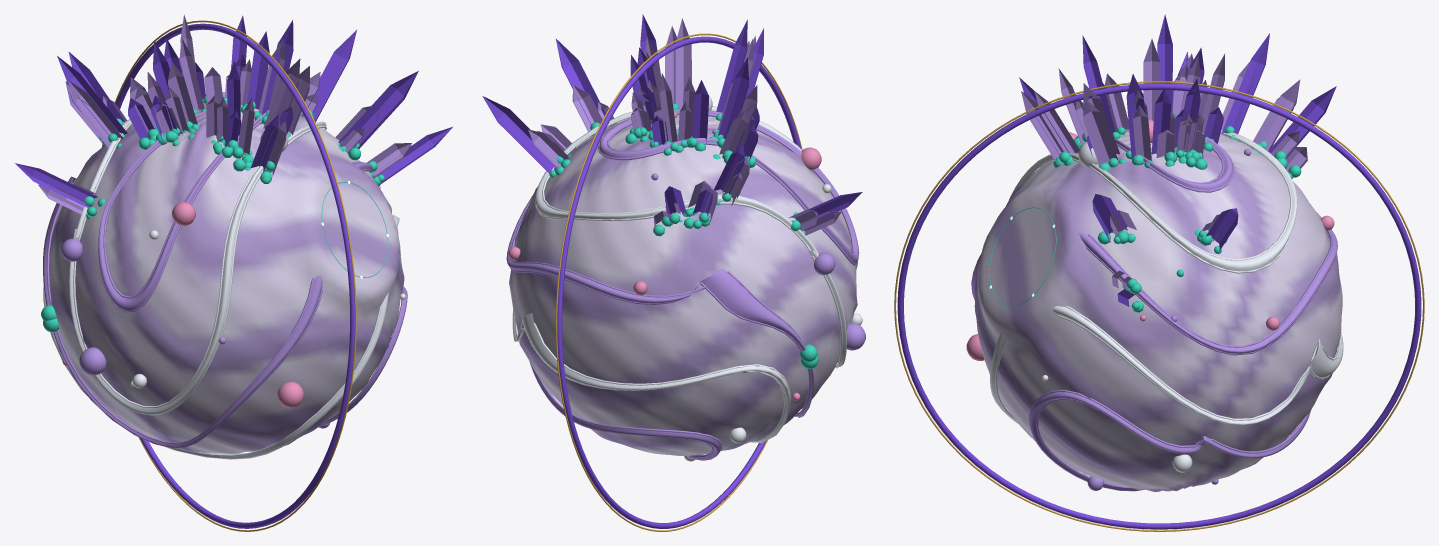
File: planet-posture.glb
3 views of the same model, side by side, from view 1: azimuth 30°, elevation 25°; view 2: azimuth 150°, elevation 25°; view 3: azimuth 270°, elevation 25° (orthographic). The views are drawn at different scales.
Visible parts, largest first — view 1: MyoSkills posture / Sculpted pearl · vertex colour, MyoSkills posture / Lavender pearl, MyoSkills posture / Violet satin resin, MyoSkills posture / Ivory ceramic, MyoSkills posture / Mint opaline resin, MyoSkills posture / Champagne metal, MyoSkills posture / Blush ceramic; view 2: MyoSkills posture / Sculpted pearl · vertex colour, MyoSkills posture / Lavender pearl, MyoSkills posture / Violet satin resin, MyoSkills posture / Ivory ceramic, MyoSkills posture / Mint opaline resin, MyoSkills posture / Champagne metal, MyoSkills posture / Blush ceramic; view 3: MyoSkills posture / Sculpted pearl · vertex colour, MyoSkills posture / Lavender pearl, MyoSkills posture / Violet satin resin, MyoSkills posture / Ivory ceramic, MyoSkills posture / Champagne metal, MyoSkills posture / Mint opaline resin, MyoSkills posture / Blush ceramic.
Part boxes in pixels (bbox=[...]): MyoSkills posture / Sculpted pearl · vertex colour: bbox=[49, 102, 404, 453]; MyoSkills posture / Lavender pearl: bbox=[38, 14, 411, 448]; MyoSkills posture / Violet satin resin: bbox=[15, 15, 452, 528]; MyoSkills posture / Ivory ceramic: bbox=[43, 119, 405, 459]; MyoSkills posture / Mint opaline resin: bbox=[41, 96, 388, 332]; MyoSkills posture / Champagne metal: bbox=[101, 20, 356, 531]; MyoSkills posture / Blush ceramic: bbox=[62, 102, 380, 408]; MyoSkills posture / Sculpted pearl · vertex colour: bbox=[509, 114, 857, 455]; MyoSkills posture / Lavender pearl: bbox=[506, 18, 865, 460]; MyoSkills posture / Violet satin resin: bbox=[482, 14, 862, 528]; MyoSkills posture / Ivory ceramic: bbox=[512, 91, 862, 461]; MyoSkills posture / Mint opaline resin: bbox=[549, 103, 818, 368]; MyoSkills posture / Champagne metal: bbox=[555, 33, 802, 531]; MyoSkills posture / Blush ceramic: bbox=[508, 112, 821, 400]; MyoSkills posture / Sculpted pearl · vertex colour: bbox=[974, 129, 1342, 491]; MyoSkills posture / Lavender pearl: bbox=[971, 39, 1337, 491]; MyoSkills posture / Violet satin resin: bbox=[897, 14, 1421, 529]; MyoSkills posture / Ivory ceramic: bbox=[990, 130, 1343, 472]; MyoSkills posture / Champagne metal: bbox=[894, 81, 1424, 531]; MyoSkills posture / Mint opaline resin: bbox=[989, 114, 1301, 312]; MyoSkills posture / Blush ceramic: bbox=[966, 119, 1334, 360].
Bounding box in the file's own units: 2.66 × 3.02 × 2.91.
